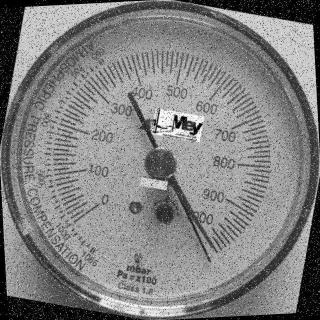gauge: (0, 0, 320, 320), (66, 188, 110, 234), (190, 219, 234, 264), (142, 145, 180, 182), (203, 254, 217, 268), (206, 242, 216, 249)
